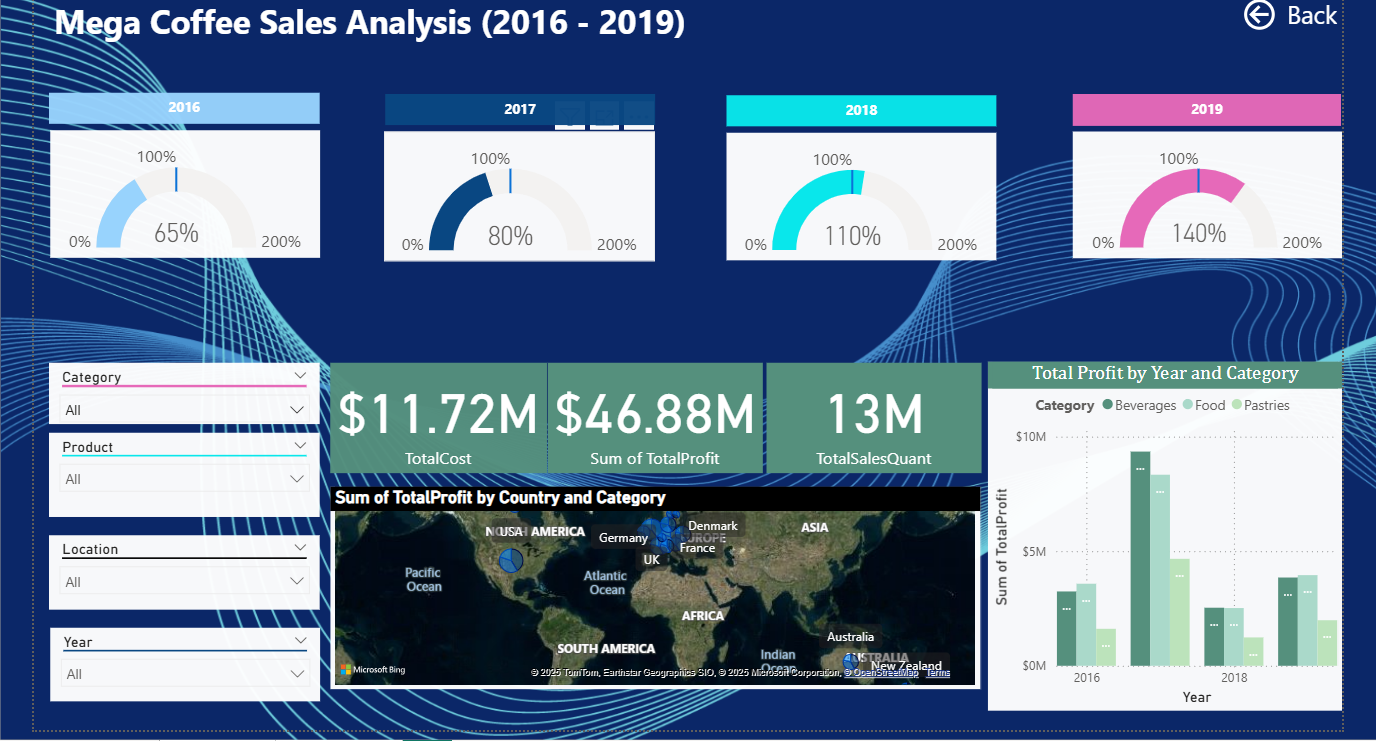

This screenshot's page, from the dashboard's own definition file:
{"tool":"powerbi","page":{"name":"Summary","canvas":[1280,720],"ordinal":0},"visuals":[{"type":"clusteredColumnChart","title":"Total Profit by Year and Category","fields":{"Category":["DATES.Year"],"Y":["Sum(Sales.TotalProfit)"],"Series":["Products.Category"]},"box":[933,359.9,347,341.4],"z":0},{"type":"card","fields":{"Values":["Key Measures.TotalCost"]},"box":[289.4,360.9,211.7,108],"z":1000},{"type":"card","fields":{"Values":["Sum(Sales.TotalProfit)"]},"box":[502.3,360.9,210.4,108],"z":2000},{"type":"card","fields":{"Values":["Key Measures.TotalSalesQuant"]},"box":[716.3,360.7,210.5,108.3],"z":3000},{"type":"map","fields":{"Category":["Countries.Country"],"Size":["Sum(Sales.TotalProfit)"],"Series":["Products.Category"]},"box":[289.4,481.9,636.2,198.8],"z":4000},{"type":"gauge","fields":{"Y":["Sum(KPIs 2016 to 2019.Actual KPI)"],"MinValue":["Sum(KPIs 2016 to 2019.Min)"],"MaxValue":["Sum(KPIs 2016 to 2019.Max)"],"TargetValue":["Sum(KPIs 2016 to 2019.Target KPI)"]},"box":[15.3,133.4,264.2,124.8],"z":5000},{"type":"textbox","box":[15,96.2,264.6,30.3],"z":6000},{"type":"gauge","fields":{"Y":["Sum(KPIs 2016 to 2019.Actual KPI)"],"MinValue":["Sum(KPIs 2016 to 2019.Min)"],"MaxValue":["Sum(KPIs 2016 to 2019.Max)"],"TargetValue":["Sum(KPIs 2016 to 2019.Target KPI)"]},"box":[342.5,135,265,126.2],"z":7000},{"type":"textbox","box":[343.8,97.5,263.8,30],"z":8000},{"type":"gauge","fields":{"Y":["Sum(KPIs 2016 to 2019.Actual KPI)"],"MinValue":["Sum(KPIs 2016 to 2019.Min)"],"MaxValue":["Sum(KPIs 2016 to 2019.Max)"],"TargetValue":["Sum(KPIs 2016 to 2019.Target KPI)"]},"box":[677.5,136.2,263.8,125],"z":9000},{"type":"textbox","box":[677.5,98.8,263.8,30],"z":10000},{"type":"gauge","fields":{"Y":["Sum(KPIs 2016 to 2019.Actual KPI)"],"MinValue":["Sum(KPIs 2016 to 2019.Min)"],"MaxValue":["Sum(KPIs 2016 to 2019.Max)"],"TargetValue":["Sum(KPIs 2016 to 2019.Target KPI)"]},"box":[1016.2,135,263.8,123.8],"z":11000},{"type":"textbox","box":[1016.2,97.5,262.5,31.2],"z":12000},{"type":"slicer","fields":{"Values":["Products.Category"]},"box":[15,361.2,265,60],"z":13000},{"type":"slicer","fields":{"Values":["Products.Product"]},"box":[15,428.8,265,82.5],"z":14000},{"type":"slicer","fields":{"Values":["Locations.Location"]},"box":[15,530,265,72.5],"z":15000},{"type":"slicer","fields":{"Values":["DATES.Year"]},"box":[15.3,619.5,264.2,71.8],"z":16000},{"type":"textbox","box":[15,0,678.8,77.5],"z":17000},{"type":"actionButton","box":[1178.8,0,100,40],"z":18000}]}

Visuals, with their boxes in screenshot pixels (x1, y1, x2, y2):
"Total Profit by Year and Category" clusteredColumnChart: x1=984, y1=358, x2=1336, y2=705
card - Key Measures.TotalCost: x1=330, y1=359, x2=545, y2=469
card - Sum(Sales.TotalProfit): x1=546, y1=359, x2=760, y2=469
card - Key Measures.TotalSalesQuant: x1=764, y1=359, x2=977, y2=469
map - Countries.Country x Sum(Sales.TotalProfit): x1=330, y1=482, x2=976, y2=684
gauge - Sum(KPIs 2016 to 2019.Actual KPI) x Sum(KPIs 2016 to 2019.Min): x1=51, y1=128, x2=320, y2=255
textbox: x1=51, y1=91, x2=320, y2=121
gauge - Sum(KPIs 2016 to 2019.Actual KPI) x Sum(KPIs 2016 to 2019.Min): x1=384, y1=130, x2=653, y2=258
textbox: x1=385, y1=92, x2=653, y2=122
gauge - Sum(KPIs 2016 to 2019.Actual KPI) x Sum(KPIs 2016 to 2019.Min): x1=724, y1=131, x2=992, y2=258
textbox: x1=724, y1=93, x2=992, y2=124
gauge - Sum(KPIs 2016 to 2019.Actual KPI) x Sum(KPIs 2016 to 2019.Min): x1=1068, y1=130, x2=1336, y2=256
textbox: x1=1068, y1=92, x2=1335, y2=124
slicer - Products.Category: x1=51, y1=360, x2=320, y2=421
slicer - Products.Product: x1=51, y1=428, x2=320, y2=512
slicer - Locations.Location: x1=51, y1=531, x2=320, y2=605
slicer - DATES.Year: x1=51, y1=622, x2=320, y2=695
textbox: x1=51, y1=0, x2=741, y2=72
actionButton: x1=1233, y1=0, x2=1335, y2=33
